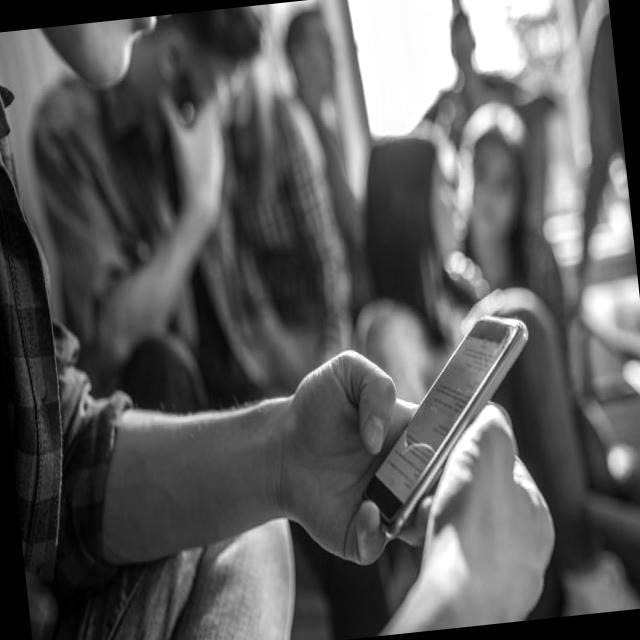phone: (346, 309, 550, 543)
